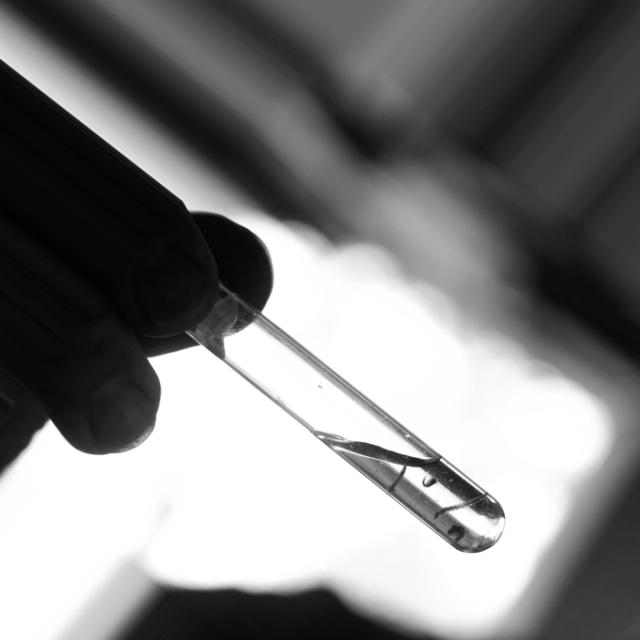larvas: (431, 491, 490, 520), (390, 462, 406, 489), (448, 520, 462, 548), (422, 478, 438, 488)
